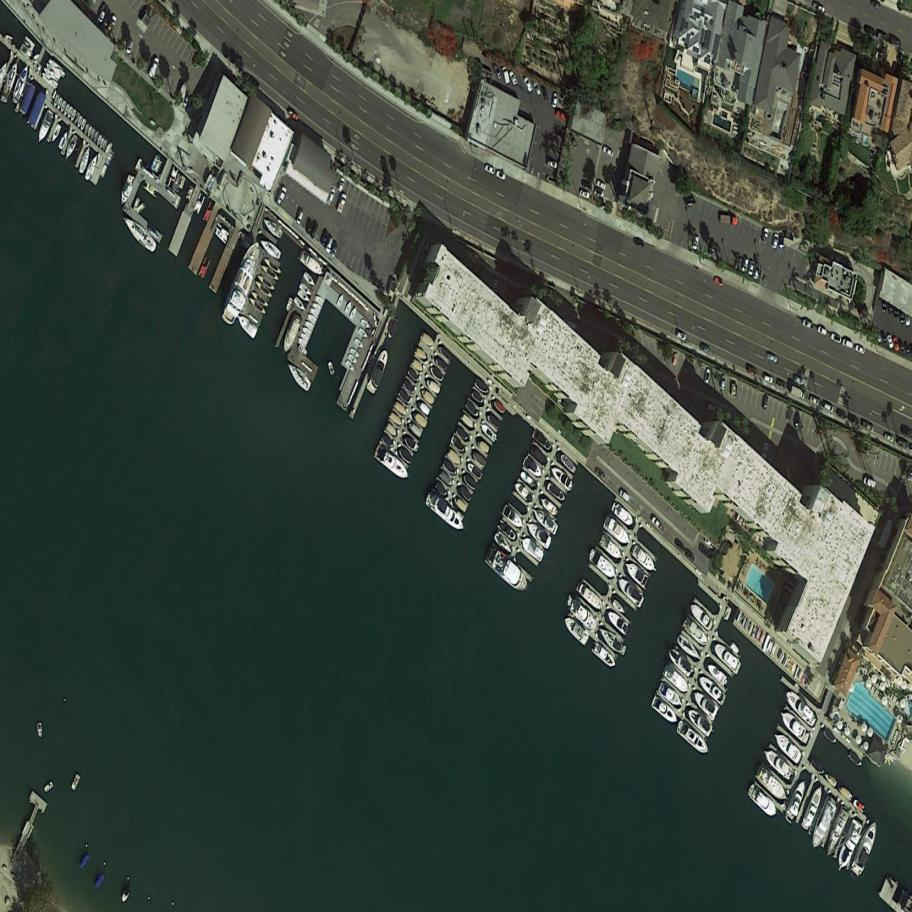large-vehicle: (717, 213, 739, 227), (787, 385, 807, 400)
ship: (217, 236, 266, 331), (480, 545, 537, 599), (115, 211, 162, 259), (422, 491, 471, 537), (849, 818, 882, 878), (370, 444, 416, 484), (671, 719, 715, 759), (807, 796, 838, 852), (781, 688, 822, 730), (833, 819, 864, 874), (751, 764, 793, 804), (742, 782, 782, 822), (775, 707, 815, 746), (822, 807, 851, 860), (759, 745, 797, 782), (782, 777, 810, 824), (599, 515, 636, 550), (365, 347, 391, 396), (770, 730, 806, 765), (595, 624, 631, 659), (800, 784, 825, 832), (573, 580, 608, 614), (614, 576, 649, 610), (710, 642, 746, 675), (586, 548, 622, 581), (567, 599, 601, 633), (559, 613, 593, 647), (664, 645, 697, 679), (628, 544, 662, 577), (282, 361, 315, 394), (695, 673, 729, 705), (659, 663, 693, 695), (648, 695, 682, 727), (689, 689, 722, 721), (528, 506, 562, 537), (680, 616, 712, 648), (523, 519, 555, 550), (588, 641, 621, 671), (686, 601, 717, 632), (684, 707, 716, 737), (621, 559, 652, 589), (296, 251, 328, 280), (280, 314, 302, 356), (233, 311, 263, 341), (547, 463, 577, 493), (517, 535, 548, 564), (674, 634, 705, 663), (655, 682, 687, 710), (1, 60, 22, 100), (11, 63, 32, 103), (499, 504, 529, 532), (597, 535, 627, 563), (608, 501, 638, 529), (259, 215, 287, 242), (257, 236, 286, 262), (703, 661, 730, 687), (520, 455, 547, 481), (35, 110, 55, 145), (604, 610, 632, 635), (528, 428, 554, 454), (490, 531, 516, 556), (117, 174, 136, 208), (495, 519, 520, 544), (544, 482, 570, 506), (527, 443, 551, 467), (83, 152, 101, 183), (63, 133, 80, 162), (511, 480, 533, 502), (262, 256, 285, 277), (558, 453, 579, 476), (77, 145, 92, 176), (477, 422, 499, 443), (259, 263, 281, 284), (538, 497, 561, 517), (465, 461, 486, 482), (140, 179, 161, 200), (212, 224, 233, 245), (249, 290, 271, 310), (247, 296, 269, 316), (518, 471, 540, 491), (448, 435, 468, 456), (472, 377, 493, 397), (253, 280, 274, 300), (255, 273, 277, 292), (418, 387, 438, 407), (417, 331, 437, 351), (820, 726, 840, 746), (807, 757, 827, 777), (410, 411, 431, 430), (458, 412, 478, 431), (445, 449, 465, 468), (441, 459, 461, 478), (402, 435, 422, 454), (460, 473, 480, 492), (463, 400, 482, 419), (424, 377, 443, 396), (192, 192, 207, 216), (850, 797, 870, 815), (386, 316, 400, 341), (197, 257, 212, 280), (428, 365, 447, 383), (437, 470, 456, 488), (432, 481, 451, 499), (836, 784, 855, 802), (846, 751, 865, 769), (395, 388, 413, 407), (391, 400, 410, 418), (201, 201, 216, 223), (470, 450, 488, 468), (301, 271, 319, 289), (404, 367, 422, 385), (396, 447, 415, 464), (451, 496, 470, 513), (485, 413, 504, 430), (383, 422, 402, 439), (167, 166, 180, 190), (469, 389, 487, 406), (406, 421, 424, 438), (388, 412, 406, 429), (416, 400, 433, 417), (291, 297, 308, 314), (401, 379, 418, 396), (297, 282, 315, 298), (822, 772, 840, 788), (379, 434, 397, 450), (50, 124, 63, 145), (413, 347, 430, 363), (491, 399, 508, 415), (409, 358, 426, 374), (148, 154, 162, 173), (70, 773, 83, 793), (475, 439, 492, 454), (611, 600, 628, 615), (58, 130, 70, 151), (433, 357, 449, 372), (296, 289, 312, 304), (727, 641, 742, 657), (326, 360, 338, 378), (206, 175, 218, 193), (104, 149, 116, 166), (184, 184, 195, 202), (303, 319, 317, 332), (54, 66, 68, 79), (297, 344, 310, 358), (344, 360, 357, 374), (153, 159, 165, 174), (313, 294, 326, 307), (308, 306, 321, 319), (48, 69, 61, 82), (353, 338, 366, 351), (299, 331, 312, 344), (297, 336, 310, 349), (46, 56, 58, 70), (42, 782, 56, 794), (348, 347, 362, 359), (336, 293, 346, 309), (306, 313, 319, 325), (300, 326, 313, 338), (357, 328, 370, 340), (346, 354, 360, 365), (285, 296, 294, 313), (349, 306, 359, 321), (41, 65, 53, 77), (44, 61, 56, 73), (47, 78, 60, 89), (359, 319, 372, 330), (73, 111, 82, 126), (99, 164, 108, 179), (344, 300, 353, 315), (311, 302, 323, 313), (135, 203, 147, 214), (66, 105, 74, 121), (62, 104, 71, 118), (76, 115, 85, 129), (95, 134, 104, 148), (133, 198, 141, 213), (52, 94, 60, 108), (56, 97, 64, 111), (69, 109, 77, 123), (92, 131, 100, 145), (79, 119, 87, 133), (83, 123, 91, 137), (134, 158, 142, 172), (37, 722, 44, 738), (60, 101, 68, 114), (89, 128, 97, 141), (102, 140, 109, 153), (99, 138, 106, 150), (87, 126, 93, 139)
small-vehicle: (696, 542, 716, 561), (648, 515, 667, 534), (146, 56, 161, 78), (670, 536, 687, 555), (861, 474, 880, 490), (276, 184, 289, 207), (681, 547, 698, 564), (592, 465, 608, 483), (616, 488, 634, 504), (799, 316, 818, 331), (324, 233, 338, 253), (742, 362, 759, 378), (493, 167, 510, 183), (879, 429, 897, 444), (894, 434, 912, 449), (886, 34, 904, 49), (553, 109, 571, 124), (329, 237, 341, 259), (492, 61, 504, 83), (710, 273, 727, 288), (832, 406, 849, 421), (844, 412, 861, 427), (814, 324, 831, 339), (600, 144, 617, 159), (284, 108, 301, 123), (858, 419, 876, 433), (336, 193, 348, 214), (96, 4, 108, 24), (106, 14, 118, 34), (318, 227, 330, 247), (763, 351, 780, 365), (840, 337, 857, 351), (567, 132, 580, 150), (760, 372, 776, 386), (773, 376, 789, 390), (820, 400, 836, 414), (852, 341, 868, 355), (828, 331, 844, 345), (697, 341, 713, 355), (673, 329, 689, 343), (483, 162, 499, 176), (702, 367, 713, 387), (501, 65, 511, 86), (532, 80, 543, 99), (523, 75, 534, 94), (862, 24, 878, 37), (806, 393, 822, 406), (577, 187, 593, 200), (769, 233, 780, 251), (592, 186, 607, 199), (670, 351, 680, 370), (326, 187, 336, 206), (509, 69, 520, 86), (125, 35, 134, 55), (632, 237, 647, 249), (594, 179, 609, 191), (545, 159, 560, 171), (811, 2, 827, 13), (691, 234, 700, 253), (182, 91, 192, 108), (740, 257, 750, 274), (309, 222, 319, 239), (875, 30, 889, 42), (761, 393, 770, 411), (337, 176, 346, 194), (305, 218, 315, 234), (886, 333, 895, 350), (761, 228, 770, 245), (793, 411, 801, 429), (296, 209, 305, 225), (541, 86, 550, 102), (880, 331, 889, 346), (892, 336, 900, 352), (747, 261, 755, 277), (552, 92, 559, 109), (778, 232, 785, 249), (684, 198, 697, 207), (904, 310, 911, 326), (903, 341, 910, 356), (898, 338, 904, 355), (720, 375, 726, 391)
